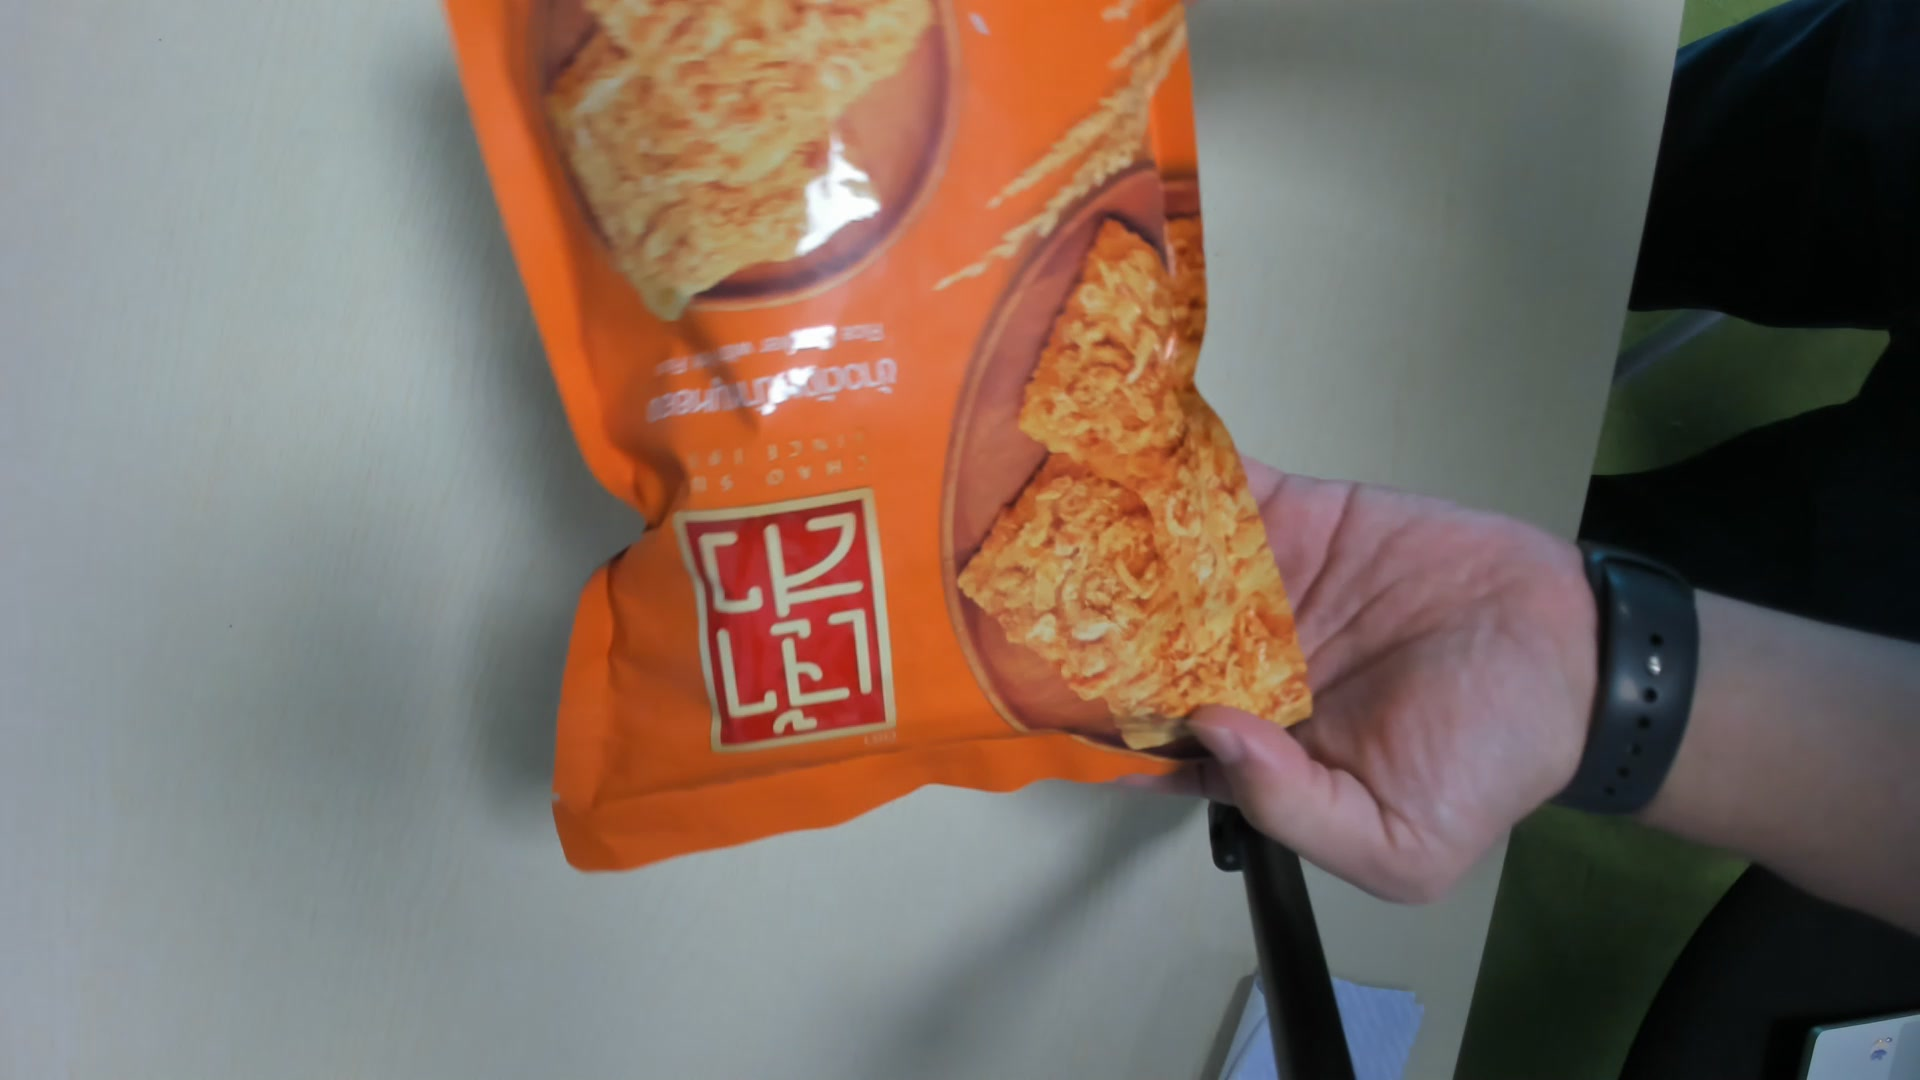PotatoChipsKeropok_0-99g_NonHalal_NonHealthy: (462, 8, 1309, 861)
